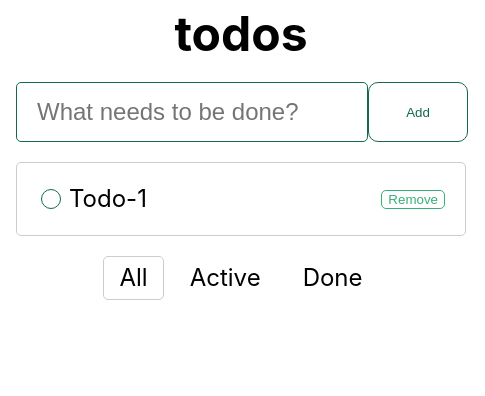
Test: Todo list › Adding new todo item in non-empty list
Type "Todo-2" into the field at x=192, y=112, box top-left (16, 82), bottom-right (368, 142)
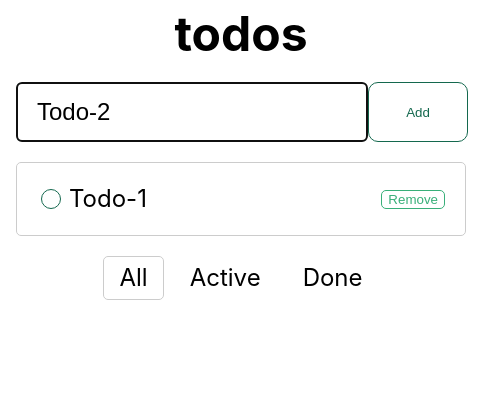
Click the button "Add" at x=418, y=112, box top-left (368, 82), bottom-right (468, 142)
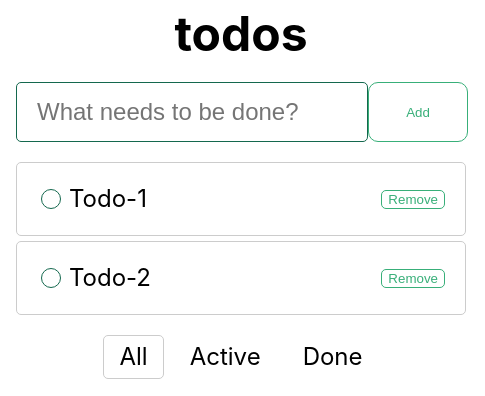
Expected: the number of checkboxes is 2, top-left (41, 189), bottom-right (61, 209); top-left (41, 268), bottom-right (61, 288)
Expected: the text "Todo-2" is not checked, top-left (37, 262), bottom-right (151, 294)
